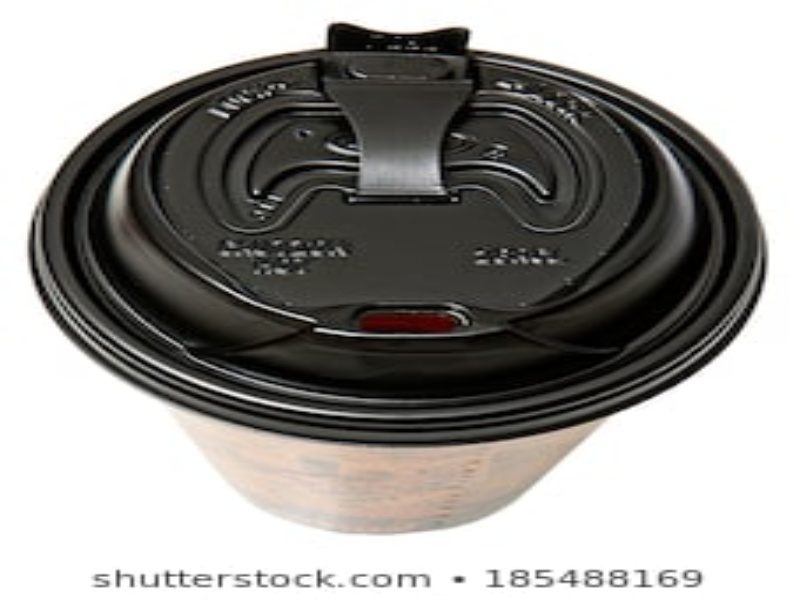coffee-lid: (24, 19, 770, 447)
